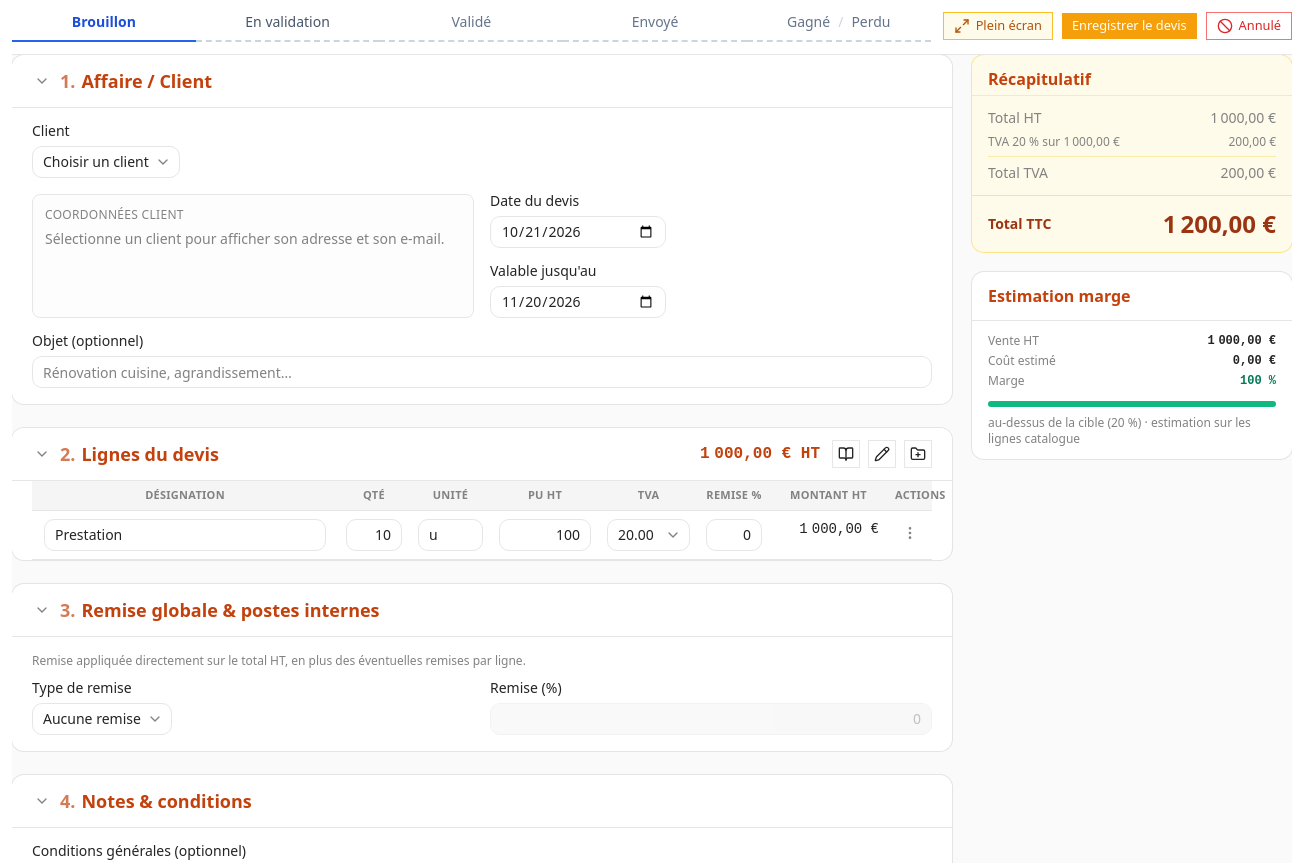
it: DevisEditor — rail récap & plein écran › actions de ligne sous un menu ⋮ en mode normal, en icônes alignées en plein écran
The image size is (1304, 863).
Expected: the field labelled "Supprimer la ligne" is not shown
Click the heading titled "Actions de la ligne" at (910, 532), box top-left (902, 524), bottom-right (918, 540)
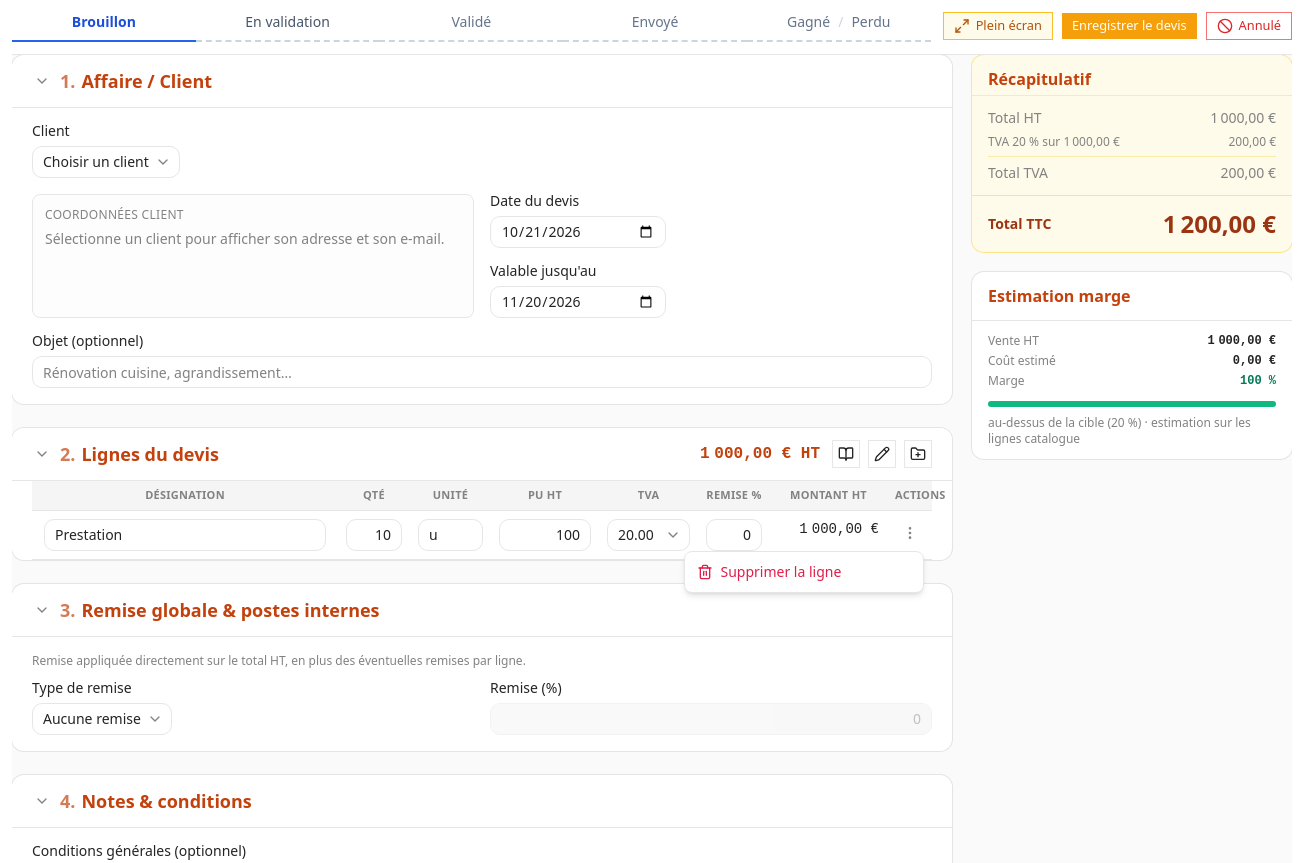
Expected: the button labelled "Supprimer la ligne" is shown, top-left (688, 556), bottom-right (918, 588)
Click the button "Plein écran" at (998, 26), box top-left (943, 12), bottom-right (1053, 40)
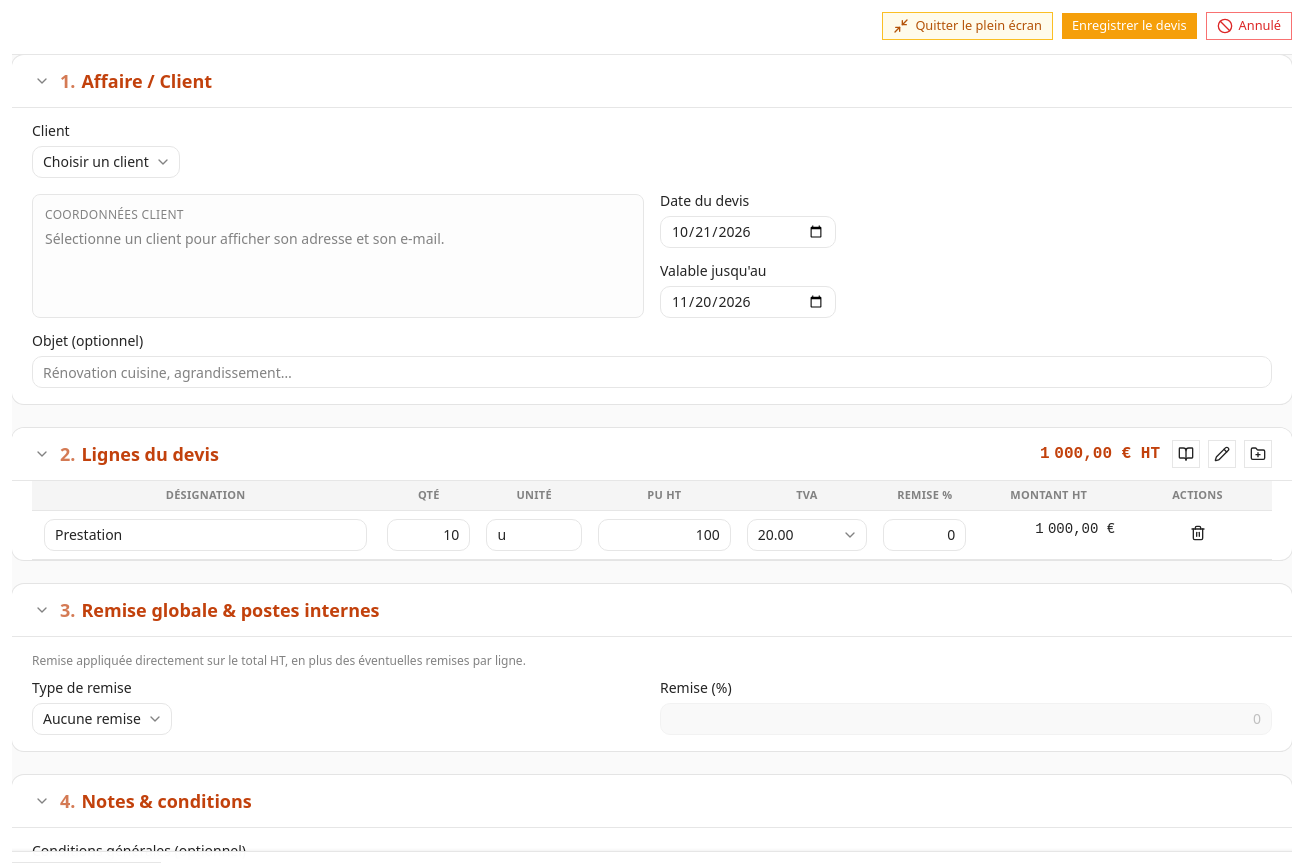
Expected: the button named "Supprimer la ligne" is shown, top-left (1184, 518), bottom-right (1212, 546)
